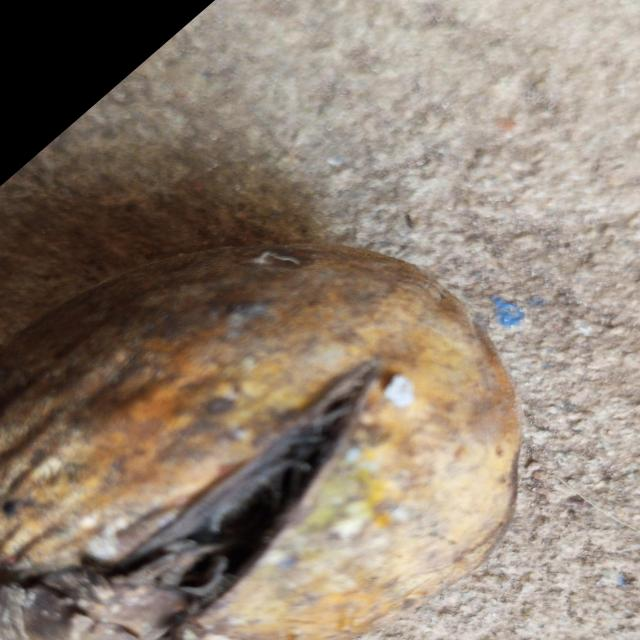damaged: (0, 244, 520, 640)
